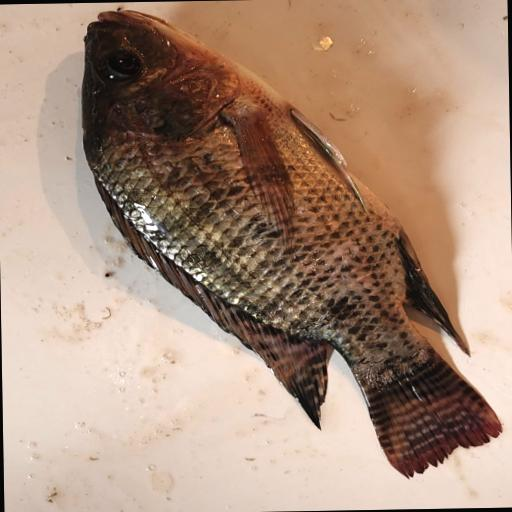Tilapia: (80, 3, 504, 485)
